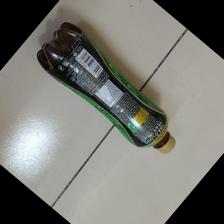Olong: (33, 22, 176, 154)
